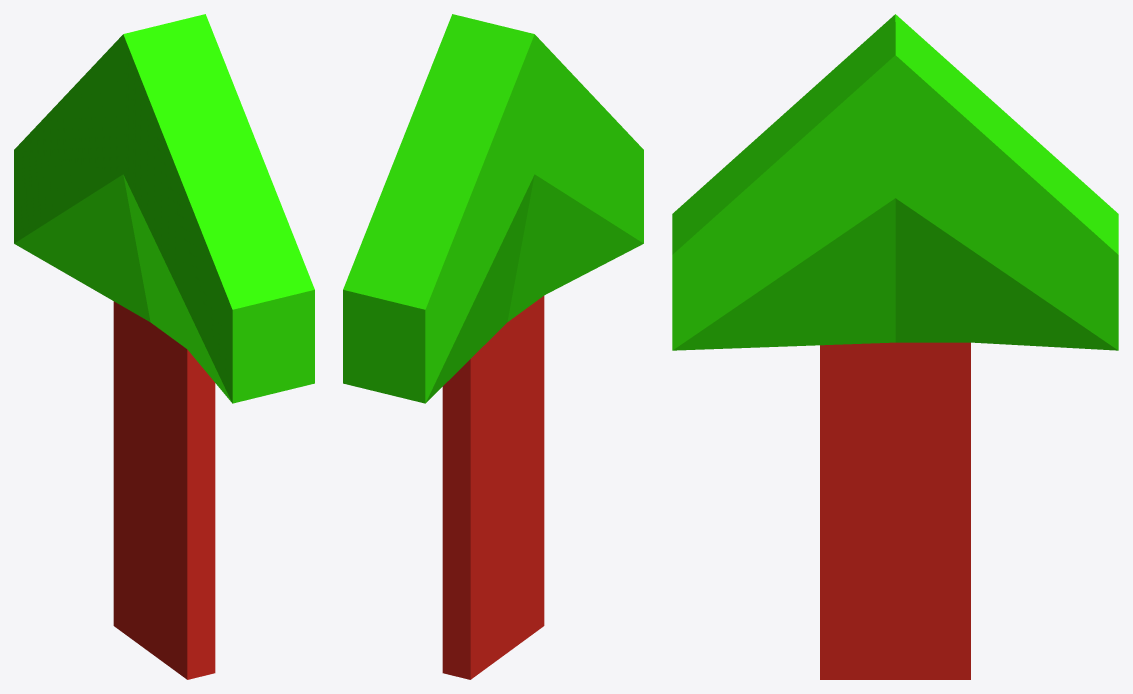
Rendered from Pfeil.fbx.
The picture shows the model from 3 angles, left to right: view 1: azimuth 30°, elevation 25°; view 2: azimuth 150°, elevation 25°; view 3: azimuth 270°, elevation 25°; orthographic projection. The views are drawn at different scales.
Visible parts, largest first — view 1: Cube; view 2: Cube; view 3: Cube.
Part boxes in pixels (<box>): Cube: <box>14,14,314,679</box>; Cube: <box>343,14,643,679</box>; Cube: <box>672,14,1118,679</box>.
Size of the model in its own units: 43.55 by 316 by 200.
